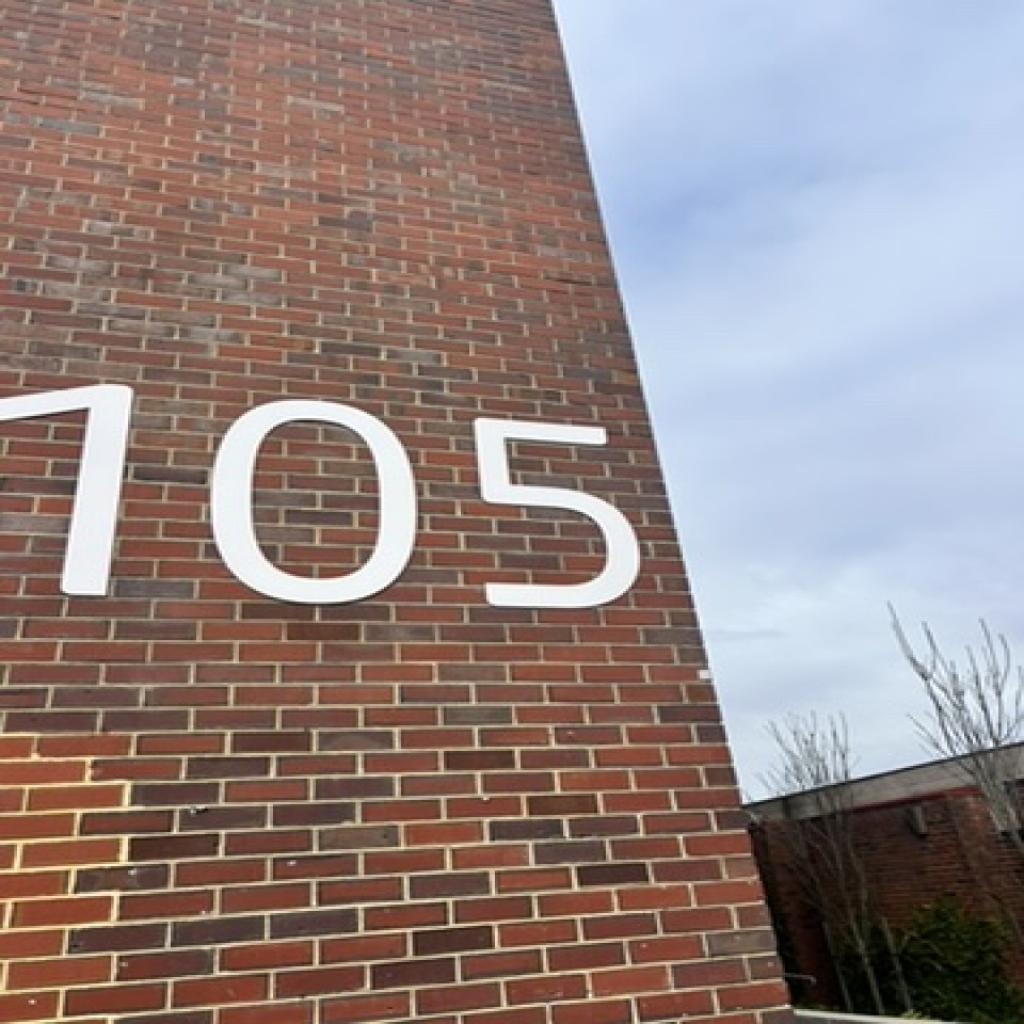BuildingCodes: (0, 380, 644, 618)
